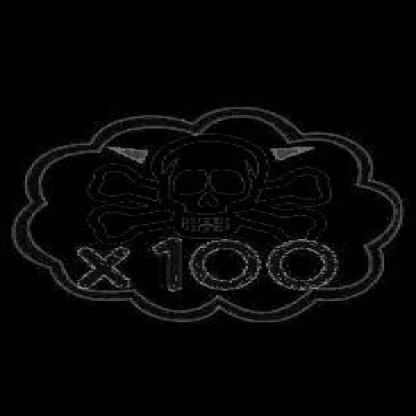skull: (85, 133, 342, 248)
